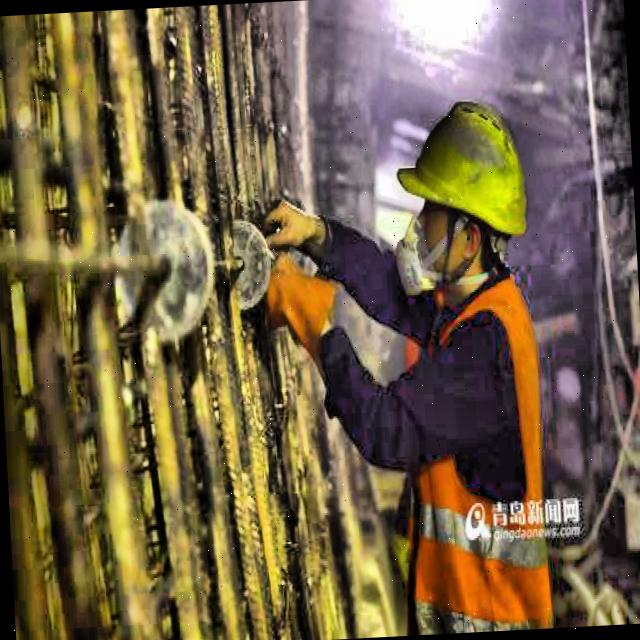helmet: (388, 71, 542, 305)
